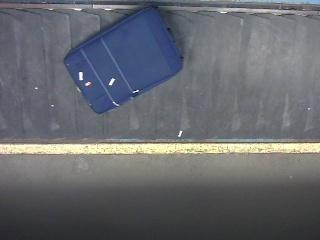Suitcase: (64, 8, 182, 114)
